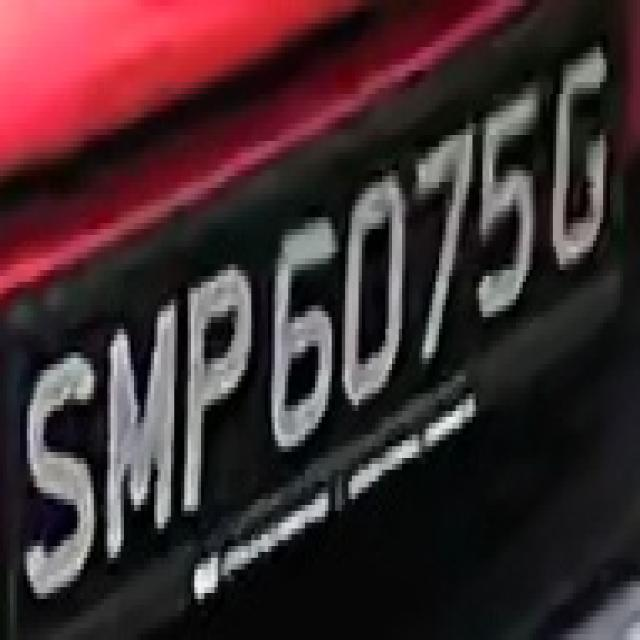0: (339, 158, 412, 417)
5: (469, 100, 543, 352)
6: (268, 194, 335, 458)
7: (405, 106, 476, 358)
G: (533, 41, 620, 282)
M: (104, 294, 181, 570)
P: (181, 247, 255, 534)
S: (20, 347, 104, 622)
